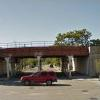Bridge: (4, 30, 89, 68)
